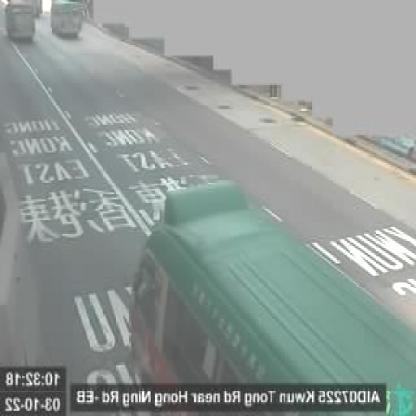Minibus: (134, 180, 416, 413), (8, 0, 36, 40), (51, 0, 83, 33)
